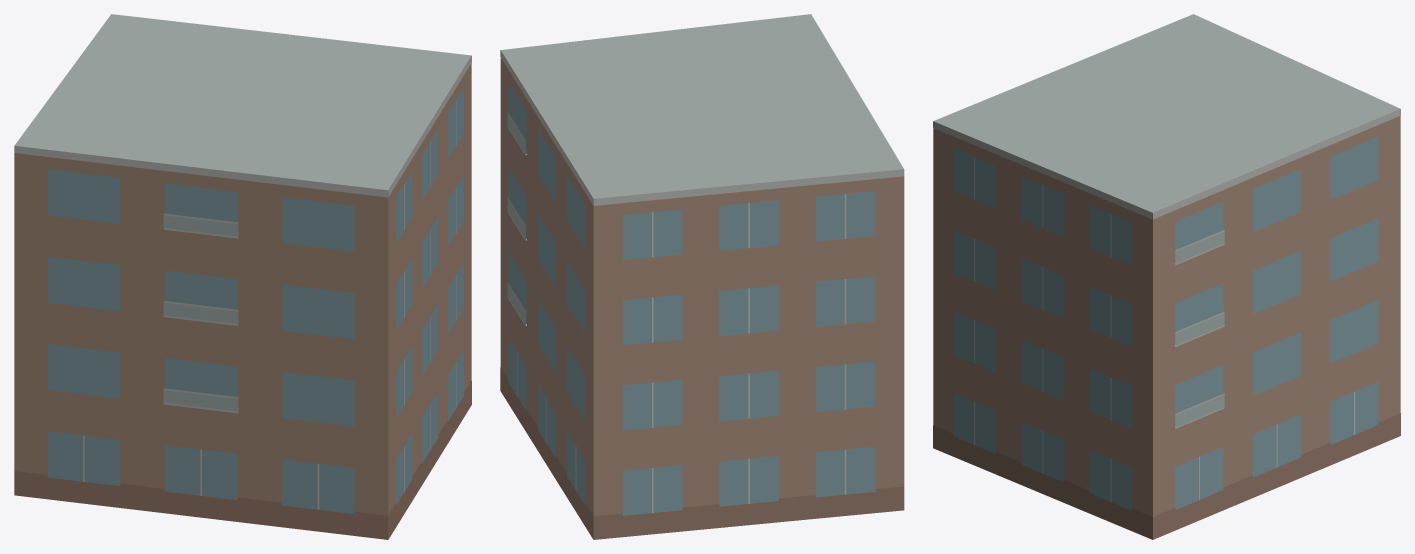
Rendered from survey-upis-33038973.glb.
3 renders of one model, left to right at view 1: azimuth 30°, elevation 25°; view 2: azimuth 150°, elevation 25°; view 3: azimuth 270°, elevation 25°, orthographic. The views are drawn at different scales.
Visible parts, largest first — view 1: survey-upis-33038973.tmp; view 2: survey-upis-33038973.tmp; view 3: survey-upis-33038973.tmp.
Boxes of the visible parts, left/top/right/bottom form: survey-upis-33038973.tmp: left=14, top=14, right=471, bottom=539; survey-upis-33038973.tmp: left=500, top=14, right=904, bottom=539; survey-upis-33038973.tmp: left=933, top=14, right=1400, bottom=539.
Size of the model in its own units: 15.46 by 11.85 by 15.37.
